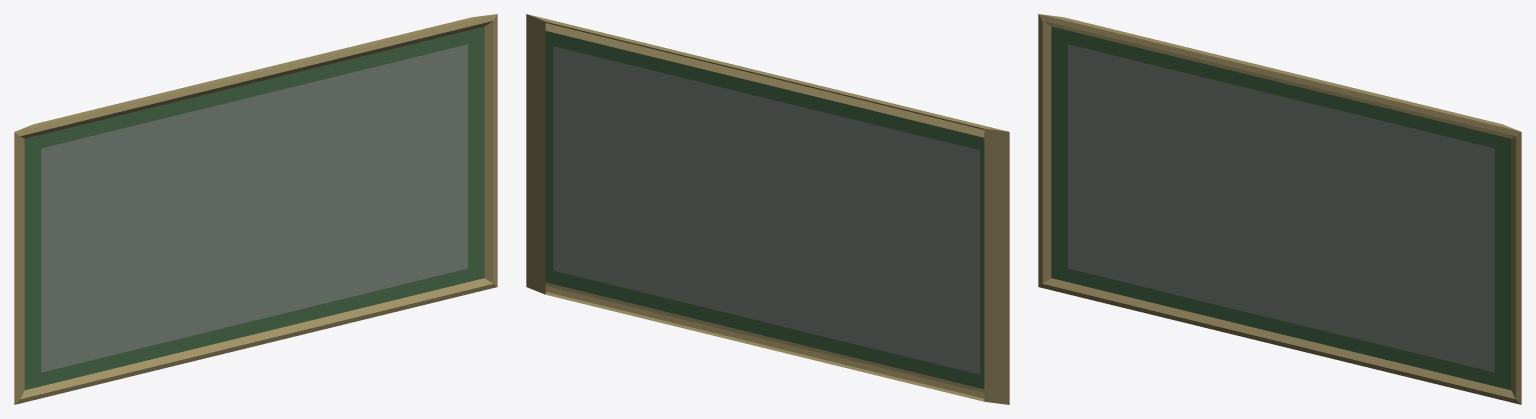
Rendered from frame4.gltf.
The picture shows the model from 3 angles, left to right: view 1: azimuth 30°, elevation 25°; view 2: azimuth 150°, elevation 25°; view 3: azimuth 330°, elevation 25°; orthographic projection.
Parts seen in each view (by area): view 1: Plane.006; view 2: Plane.006; view 3: Plane.006.
Part boxes in pixels (bbox=[...]): Plane.006: bbox=[14, 14, 497, 404]; Plane.006: bbox=[526, 14, 1009, 404]; Plane.006: bbox=[1038, 14, 1521, 404].
Bounding box in the file's own units: 2.33 × 1.26 × 0.0321.
